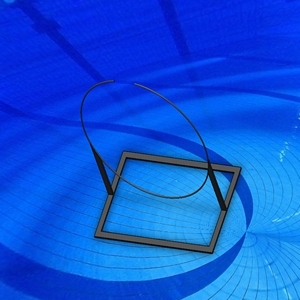circle: (79, 79, 242, 254)
